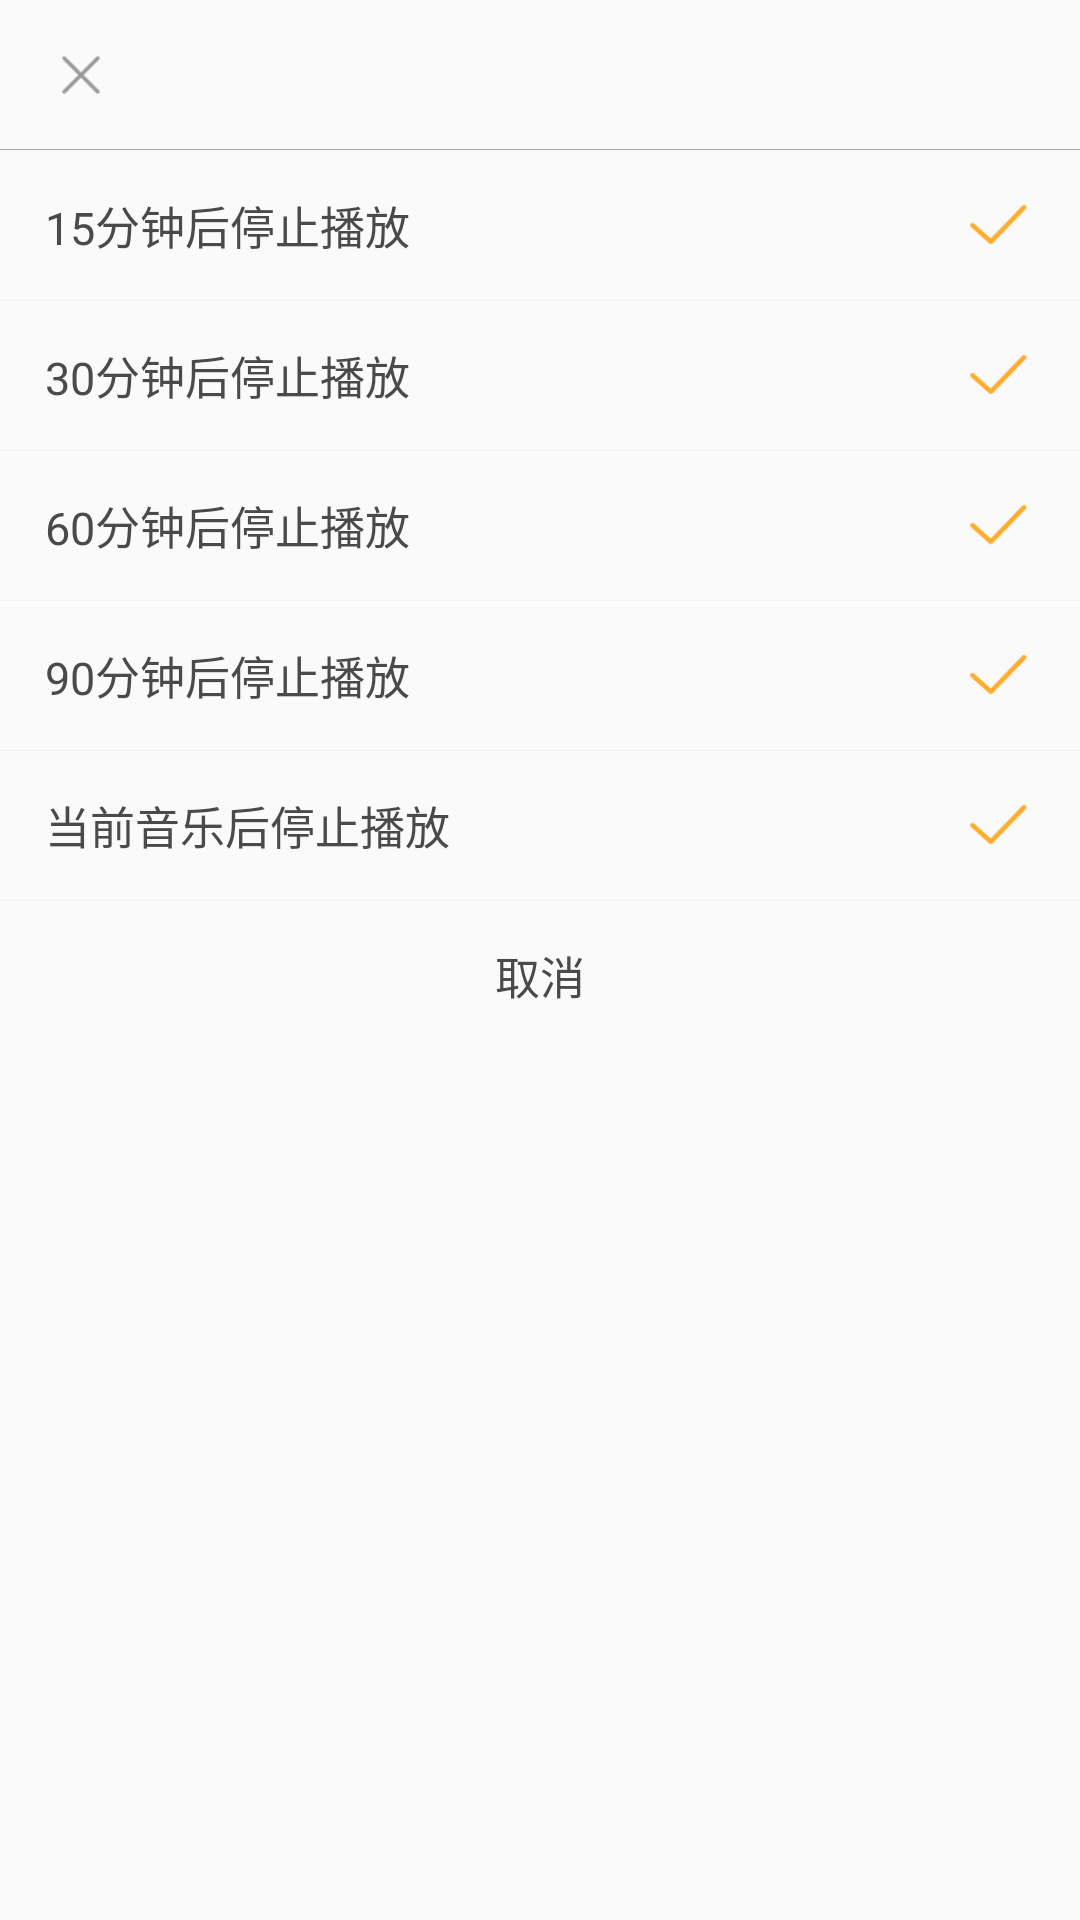

Named icons in this screenshot (1080px×1920px) and their bounding boxes, box=[x1, y1, x2, y2]:
lisong delete: box=[62, 56, 100, 94]
lisong ok: box=[970, 204, 1027, 245], box=[970, 354, 1027, 395], box=[970, 504, 1027, 545], box=[970, 654, 1027, 695], box=[970, 804, 1027, 845]
